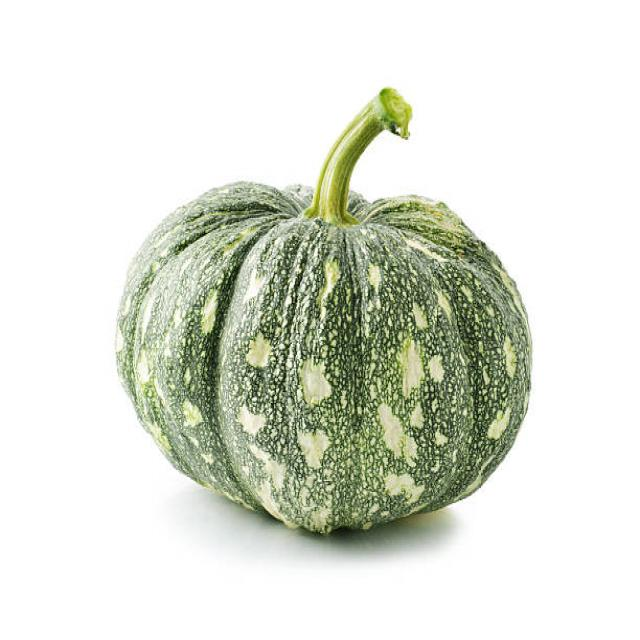Pumpkin: (113, 161, 537, 542)
